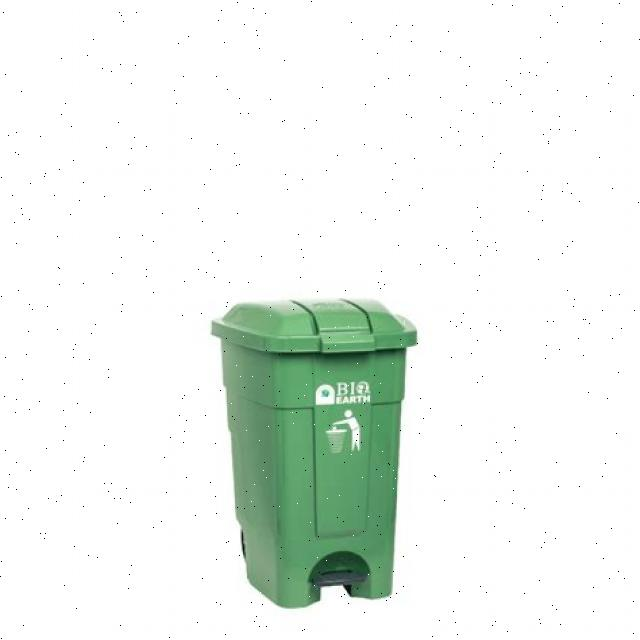garbage container: (184, 273, 504, 617)
